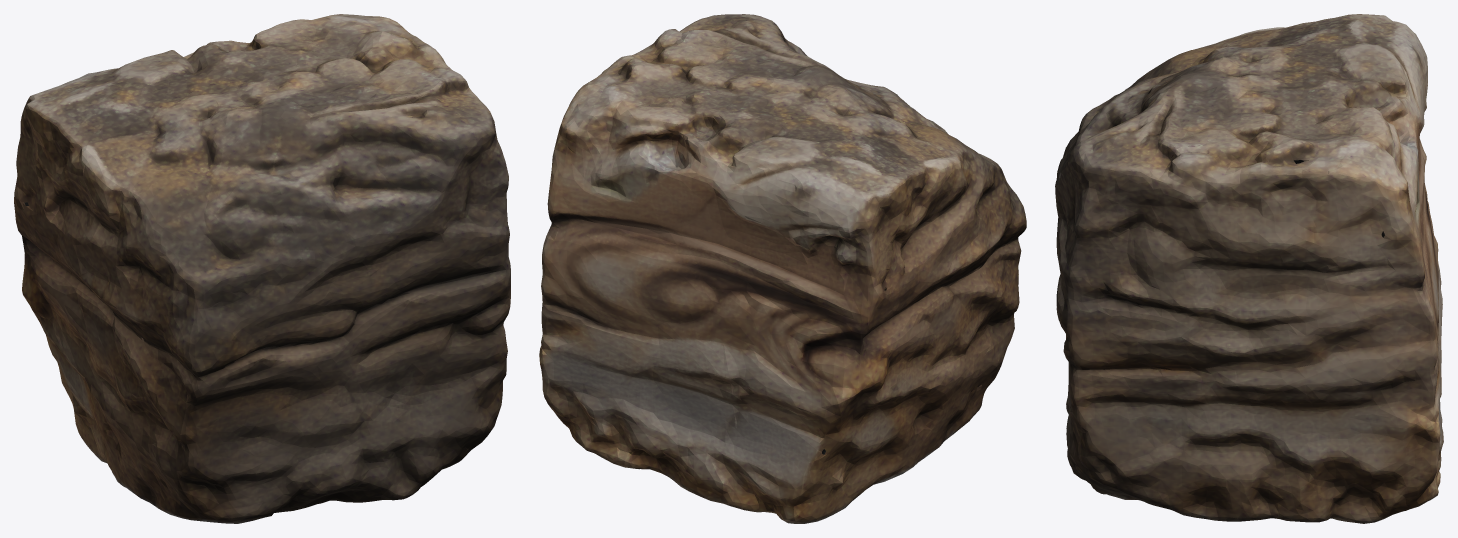
3 views of the same model, side by side, from view 1: azimuth 30°, elevation 25°; view 2: azimuth 150°, elevation 25°; view 3: azimuth 270°, elevation 25° (orthographic). The views are drawn at different scales.
Visible parts, largest first — view 1: world; view 2: world; view 3: world.
Boxes of the visible parts, x1=… form: world: x1=14, y1=14, x2=510, y2=523; world: x1=539, y1=14, x2=1026, y2=523; world: x1=1055, y1=14, x2=1443, y2=523.
Bounding box in the file's own units: 0.6127 × 0.6214 × 0.5494.
1 material, 1 textured.
